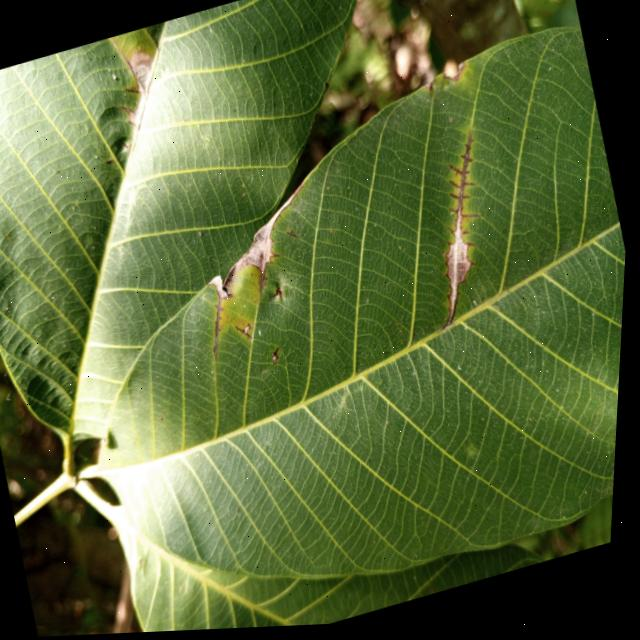Corynespora: (400, 135, 518, 337), (203, 297, 240, 363), (236, 324, 257, 345), (256, 270, 273, 295), (124, 86, 140, 98), (288, 231, 300, 243)
Leaf-Blight: (192, 187, 323, 304), (115, 49, 166, 129)
